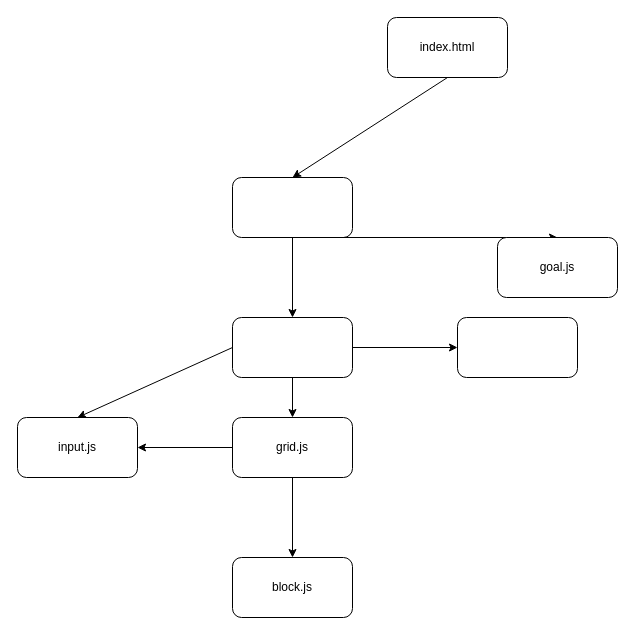
The diagram is 635 pixels wide and 635 high, and some of its shapes have lost their labels. The centre of each missing label's shape, as x and y in pixels:
"game.js" belongs at (x=292, y=347).
"main,js" belongs at (x=292, y=207).
